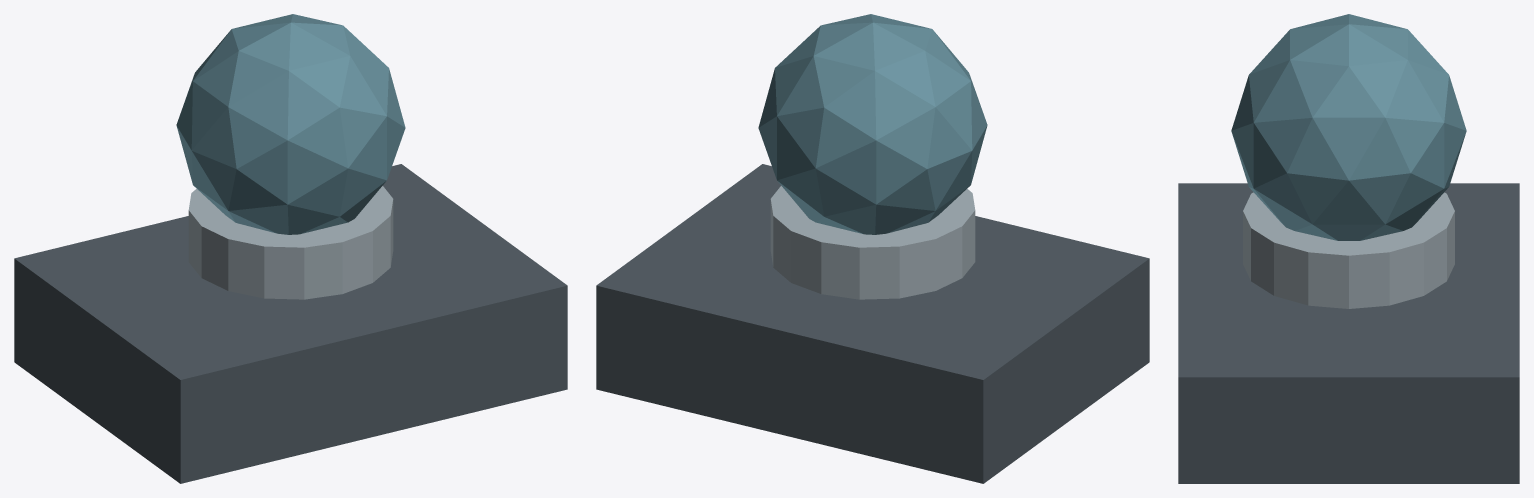
File: led_module_lod2.glb
3 renders of one model, left to right at view 1: azimuth 30°, elevation 25°; view 2: azimuth 150°, elevation 25°; view 3: azimuth 270°, elevation 25°, orthographic. The views are drawn at different scales.
Visible parts, largest first — view 1: LED_BASE_MAT_POLYMER_BLACK, LED_LENS_MAT_GLASS, LED_RIM_MAT_METAL_BRUSHED; view 2: LED_BASE_MAT_POLYMER_BLACK, LED_LENS_MAT_GLASS, LED_RIM_MAT_METAL_BRUSHED; view 3: LED_BASE_MAT_POLYMER_BLACK, LED_LENS_MAT_GLASS, LED_RIM_MAT_METAL_BRUSHED.
Boxes of the visible parts, bbox=[...] form: LED_BASE_MAT_POLYMER_BLACK: bbox=[14, 164, 567, 483]; LED_LENS_MAT_GLASS: bbox=[176, 14, 405, 234]; LED_RIM_MAT_METAL_BRUSHED: bbox=[188, 186, 393, 299]; LED_BASE_MAT_POLYMER_BLACK: bbox=[596, 164, 1149, 483]; LED_LENS_MAT_GLASS: bbox=[758, 14, 987, 234]; LED_RIM_MAT_METAL_BRUSHED: bbox=[770, 186, 975, 299]; LED_BASE_MAT_POLYMER_BLACK: bbox=[1178, 183, 1519, 483]; LED_LENS_MAT_GLASS: bbox=[1231, 14, 1466, 240]; LED_RIM_MAT_METAL_BRUSHED: bbox=[1243, 192, 1454, 308].
Size of the model in its own units: 0.78 by 0.68 by 0.58.
